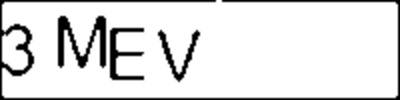3: (1, 21, 36, 83)
E: (104, 24, 146, 84)
M: (53, 13, 112, 71)
V: (153, 27, 207, 89)
